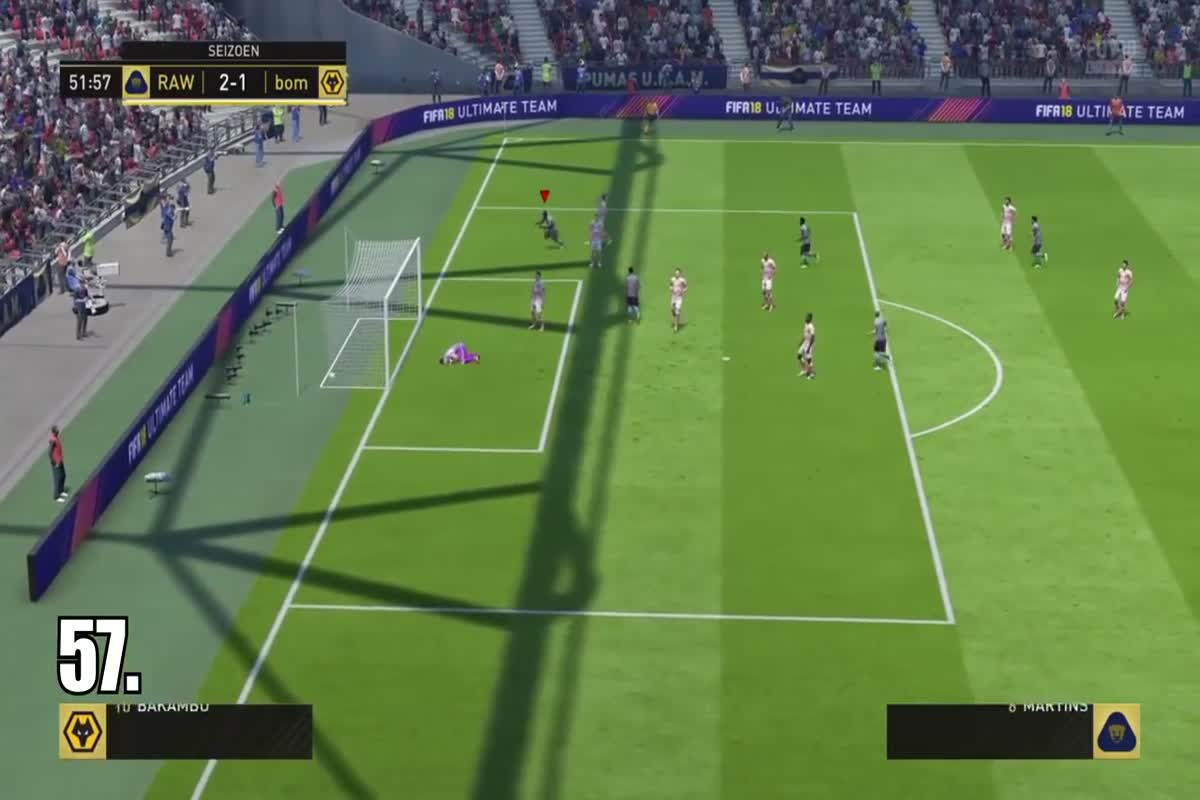ball: (317, 364, 340, 384)
